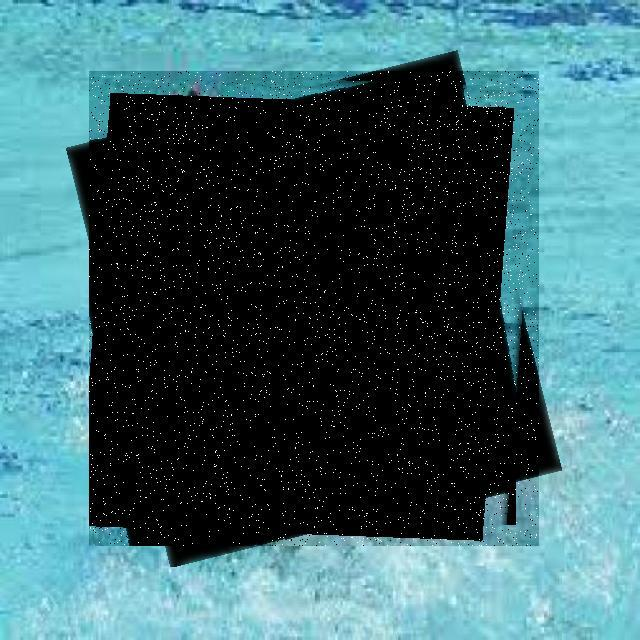Out of Water: (89, 71, 539, 546)
